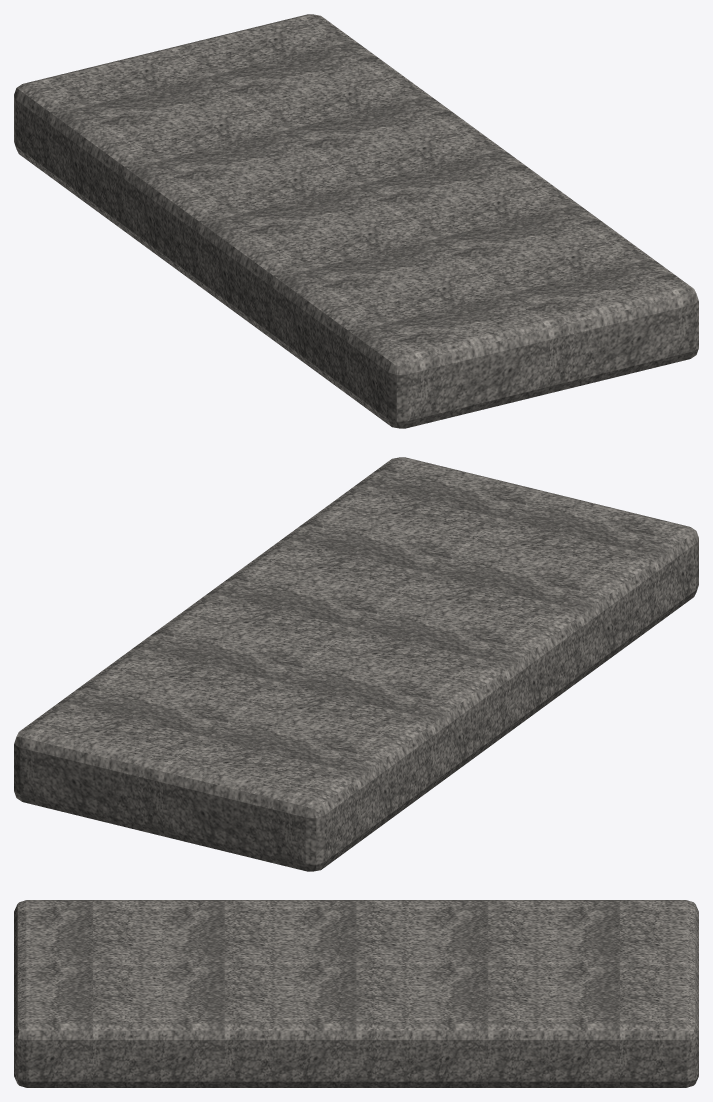
Rendered from ledger.glb.
3 renders of one model, top to bottom at view 1: azimuth 30°, elevation 25°; view 2: azimuth 150°, elevation 25°; view 3: azimuth 270°, elevation 25°, orthographic. The views are drawn at different scales.
Visible parts, largest first — view 1: ledger; view 2: ledger; view 3: ledger.
Boxes of the visible parts, x1=… form: ledger: x1=14, y1=14, x2=698, y2=428; ledger: x1=14, y1=457, x2=698, y2=871; ledger: x1=14, y1=900, x2=698, y2=1087.
Size of the model in its own units: 0.9 by 0.2 by 1.95.
Materials: 1 (1 with a texture image).
